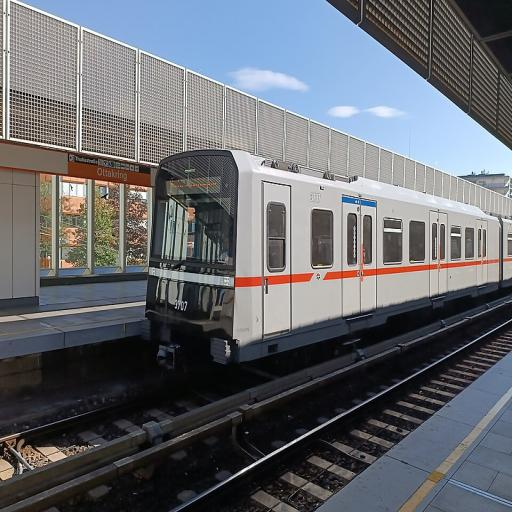X-Wagen: (145, 147, 511, 372)
